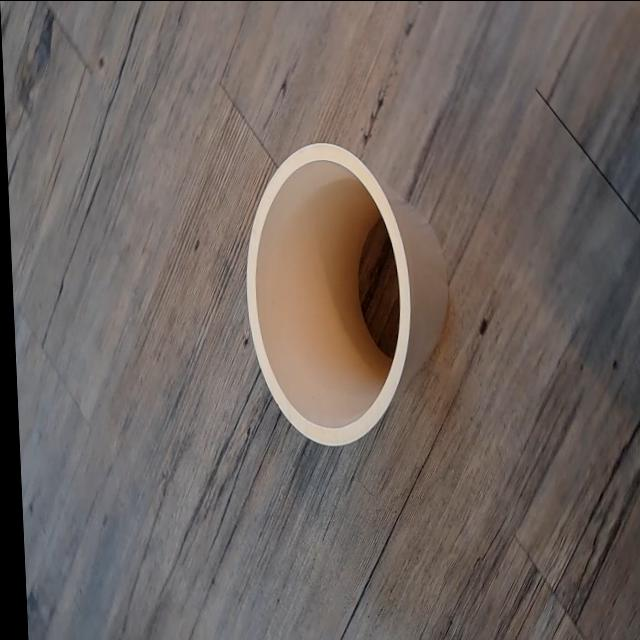CORAL: (216, 96, 472, 503)
